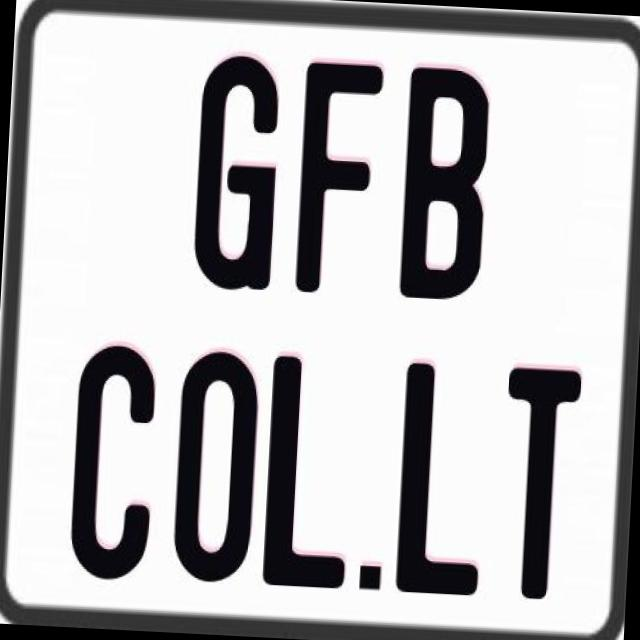0: (168, 344, 260, 588)
B: (398, 62, 493, 298)
C: (68, 340, 166, 584)
F: (290, 59, 386, 297)
G: (192, 52, 286, 290)
L: (392, 360, 488, 599), (260, 356, 354, 590)
T: (494, 364, 585, 600)
